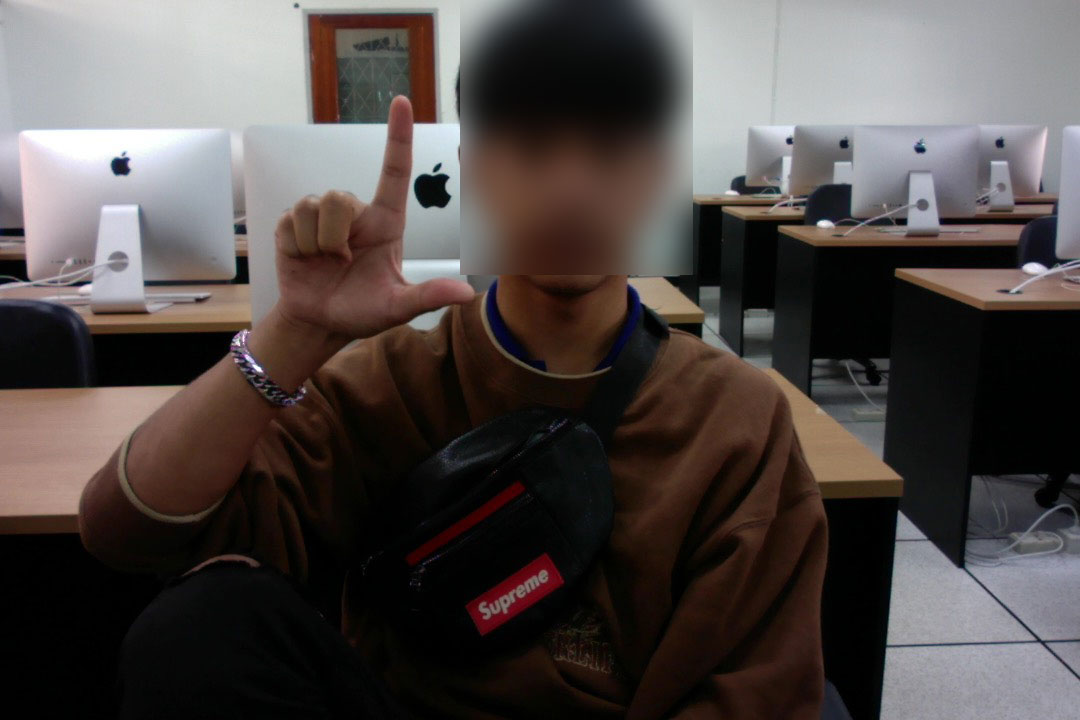lor: (250, 87, 495, 317)
